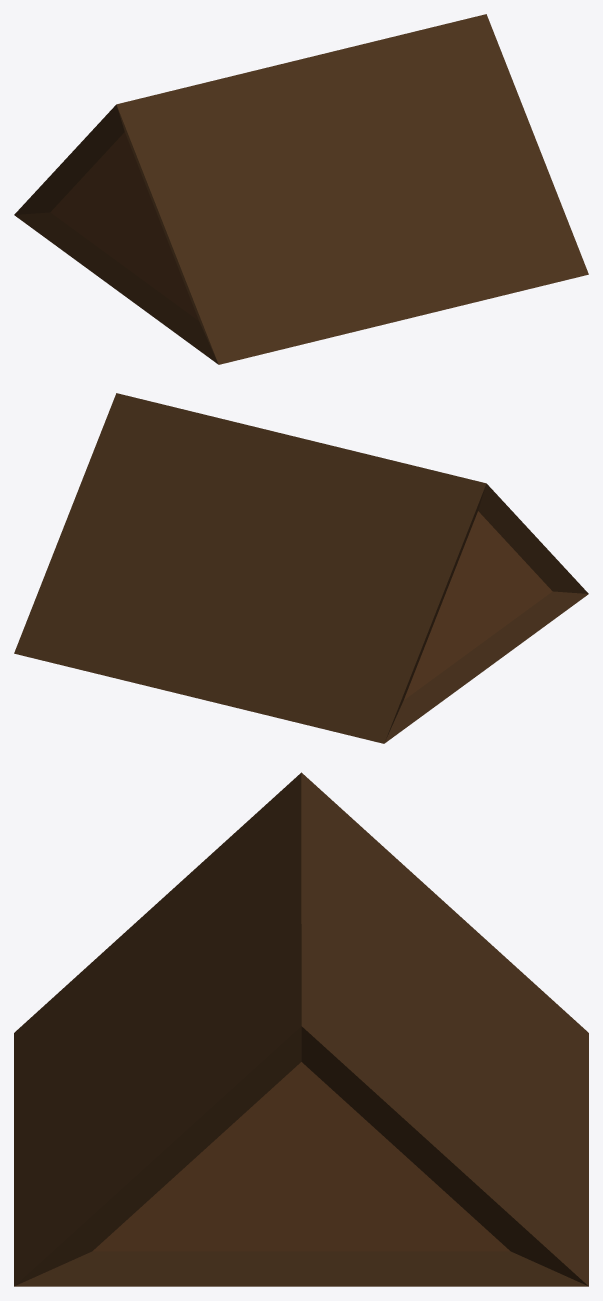
The model's file is roof.fbx.
3 renders of one model, top to bottom at view 1: azimuth 30°, elevation 25°; view 2: azimuth 150°, elevation 25°; view 3: azimuth 270°, elevation 25°, orthographic. The views are drawn at different scales.
Parts seen in each view (by area): view 1: Plane; view 2: Plane; view 3: Plane.
Part boxes in pixels (x1,y1,x2,y2): Plane: (14, 14, 588, 364); Plane: (14, 393, 588, 743); Plane: (14, 772, 588, 1286).
Bounding box in the file's own units: 1022 × 490 × 980.
